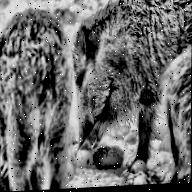boar: (72, 0, 192, 152)
